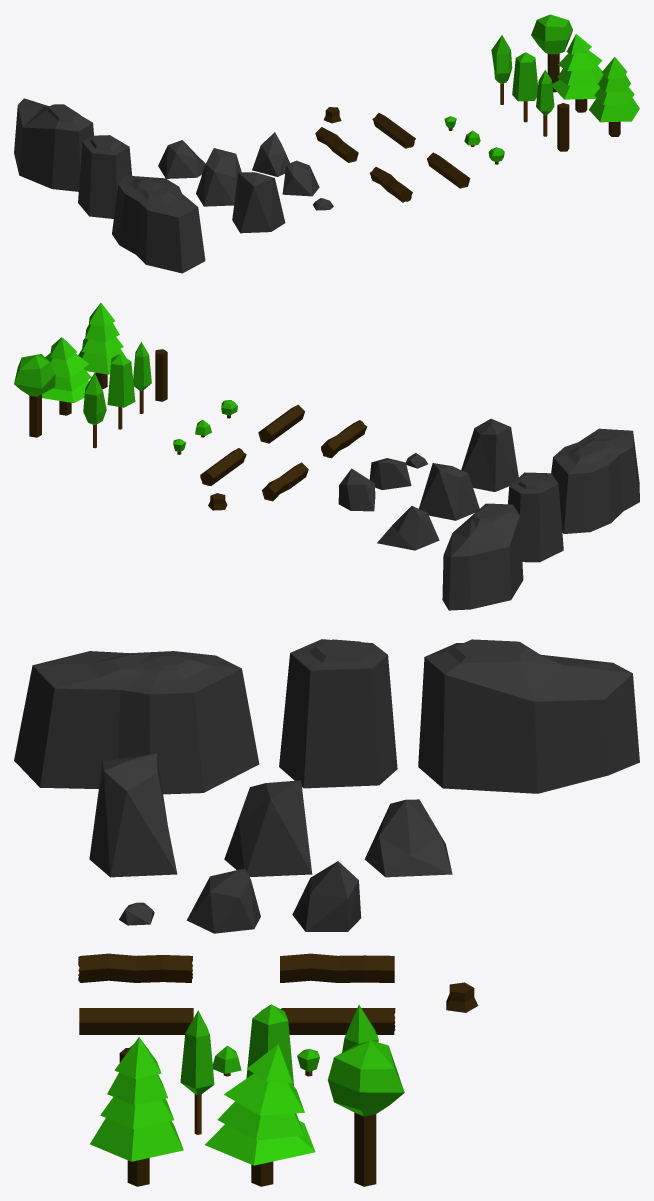
File: LowPoly_Nature_1.fbx
The picture shows the model from 3 angles, top to bottom: view 1: azimuth 30°, elevation 25°; view 2: azimuth 150°, elevation 25°; view 3: azimuth 270°, elevation 25°; orthographic projection. The views are drawn at different scales.
Visible parts, largest first — view 1: RockLarge1, RockLarge3, RockLarge2, RockSmall4, Tree2, Tree1, RockSmall5, Tree3, RockSmall6, Tree5, RockSmall3, RockSmall2 (+7 smaller); view 2: RockLarge1, RockLarge3, RockLarge2, RockSmall4, RockSmall5, Tree2, Tree1, Tree3, RockSmall6, Tree5, RockSmall3, RockSmall2 (+7 smaller); view 3: RockLarge3, RockLarge1, RockLarge2, RockSmall4, Tree2, Tree1, RockSmall5, Tree3, RockSmall6, RockSmall3, RockSmall2, TreeLog4 (+7 smaller).
Part boxes in pixels (x1,y1,x2,y2): RockLarge1: (112,175,205,273); RockLarge3: (14,98,93,191); RockLarge2: (78,135,132,218); RockSmall4: (232,172,285,233); Tree2: (552,34,603,112); Tree1: (589,57,639,136); RockSmall5: (196,148,241,206); Tree3: (531,14,572,92); RockSmall6: (158,140,205,178); Tree5: (512,52,537,122); RockSmall3: (252,132,289,176); RockSmall2: (282,160,319,196); RockLarge1: (551,428,639,533); RockLarge3: (442,503,523,610); RockLarge2: (508,472,563,562); RockSmall4: (461,418,518,491); RockSmall5: (419,463,479,520); Tree2: (42,337,91,415); Tree1: (78,303,126,389); Tree3: (14,354,55,437); RockSmall6: (377,506,439,550); Tree5: (107,354,135,429); RockSmall3: (338,468,375,511); RockSmall2: (369,458,411,489); RockLarge3: (418,639,639,793); RockLarge1: (14,651,259,794); RockLarge2: (279,639,397,788); RockSmall4: (89,753,177,877); Tree2: (205,1044,315,1186); Tree1: (90,1037,183,1186); RockSmall5: (224,780,312,876); Tree3: (328,1040,404,1186); RockSmall6: (364,799,452,877); RockSmall3: (292,861,361,931); RockSmall2: (186,868,260,933); TreeLog4: (280,953,394,982).
Size of the model in its own units: 5476 by 798 by 3105.
